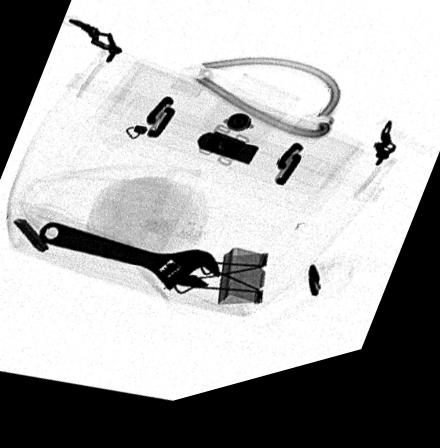Wrench: (36, 221, 221, 301)
